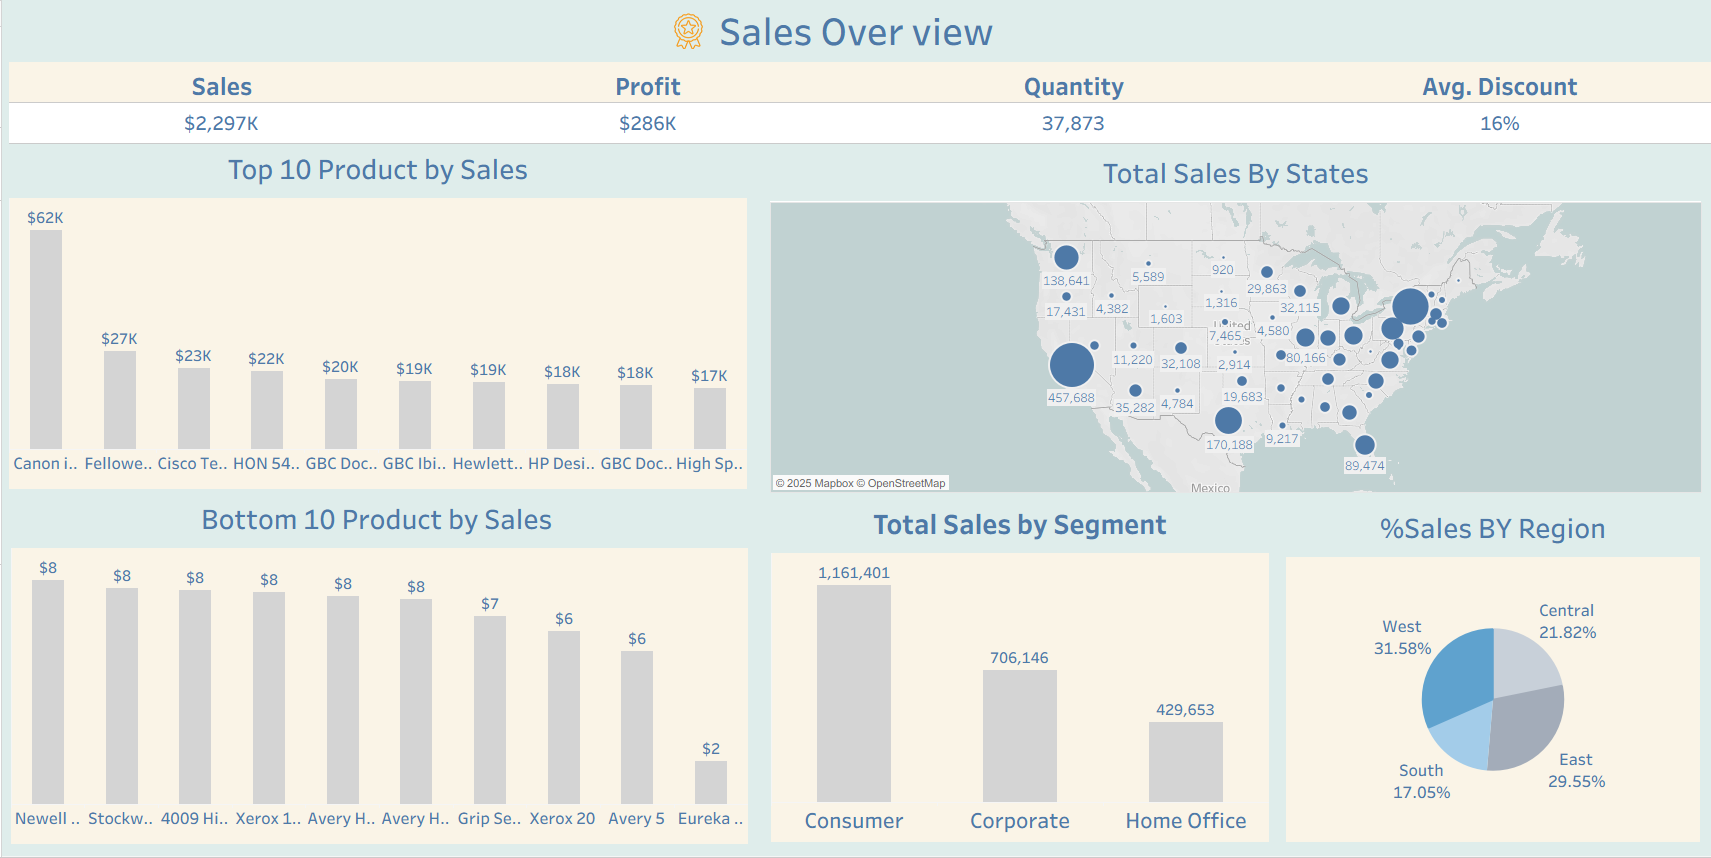

The dashboard page shown, as its layout file describes it:
{"tool":"tableau","page":{"name":"Sales Over view","canvas":[1000,1000],"units":"permille","ordinal":0},"visuals":[{"type":"title","box":[4.7,9.3,990.6,52.6]},{"type":"image","param":"Image/badge.png","box":[390.9,15.2,22.2,42.1]},{"type":"worksheet","title":"Card","mark":"Automatic","box":[4.1,72.4,997.7,95.8]},{"type":"worksheet","title":"Top 10 Product by Sales","mark":"Automatic","rows":["Sales"],"cols":["Product Name"],"box":[4.1,170.6,431.8,400.7]},{"type":"worksheet","title":"Total Sales By States","mark":"Automatic","box":[449.4,175.2,545.4,400.7]},{"type":"worksheet","title":"Bottom 10 Product by Sales ","mark":"Automatic","rows":["Sales"],"cols":["Product Name"],"box":[5.5,579.8,431.2,407.1]},{"type":"worksheet","title":"Total Sales by Segment","mark":"Automatic","rows":["Sales"],"cols":["Segment"],"box":[450,585.5,291.6,398.9]},{"type":"worksheet","title":"%Sales BY Region","mark":"Pie","box":[751.4,590.5,242.2,393.9]}]}

Visuals, with their boxes on the dashboard's canvas, which has no fixed pixel size, in thousandths of its width and height (x1, y1, x2, y2). These are canvas units, not pixel positions in the 1711x858 screenshot, which may show the page scaled, cropped or inside an application window:
title: {"x1": 5, "y1": 9, "x2": 995, "y2": 62}
image: {"x1": 391, "y1": 15, "x2": 413, "y2": 57}
"Card" worksheet: {"x1": 4, "y1": 72, "x2": 1002, "y2": 168}
"Top 10 Product by Sales" worksheet: {"x1": 4, "y1": 171, "x2": 436, "y2": 571}
"Total Sales By States" worksheet: {"x1": 449, "y1": 175, "x2": 995, "y2": 576}
"Bottom 10 Product by Sales " worksheet: {"x1": 6, "y1": 580, "x2": 437, "y2": 987}
"Total Sales by Segment" worksheet: {"x1": 450, "y1": 586, "x2": 742, "y2": 984}
"%Sales BY Region" worksheet (Pie marks): {"x1": 751, "y1": 590, "x2": 994, "y2": 984}
